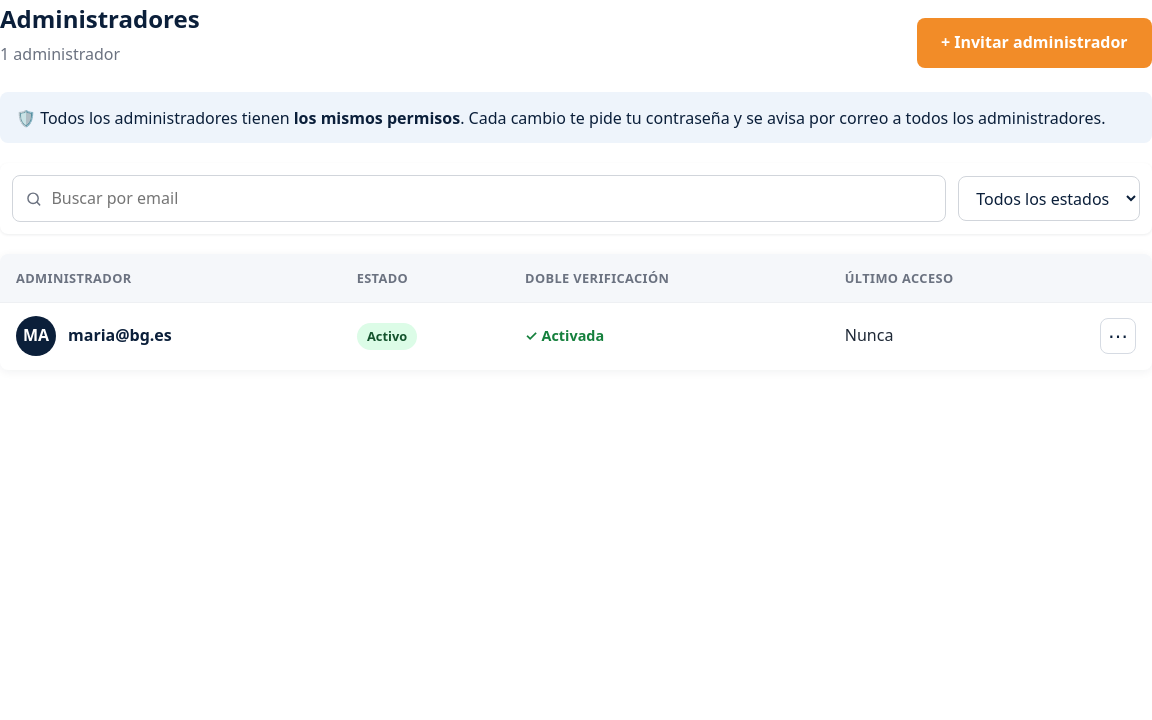
admin screens › Administradores: lists the admins and invites a new one
Expected: the heading "Administradores" is shown, x1=0 y1=0 x2=200 y2=38
Click the button "+ Invitar administrador": (1034,43) x1=917 y1=18 x2=1151 y2=68
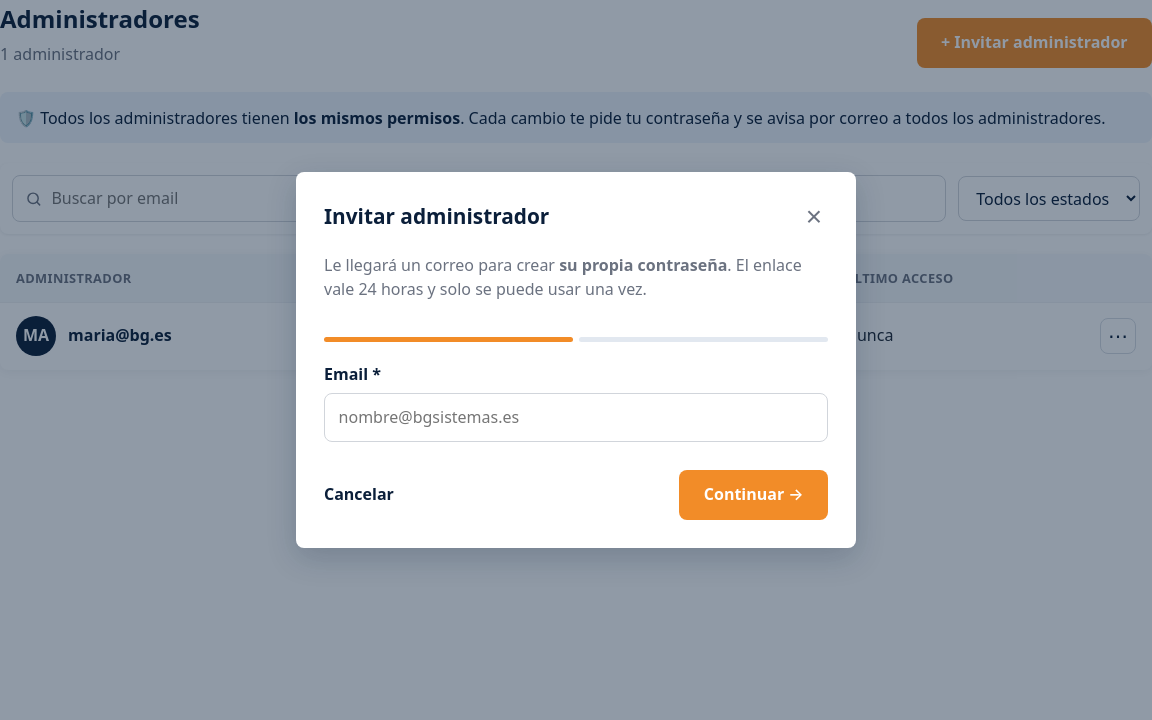
In the field with id "invite-email": (576,418) x1=324 y1=393 x2=828 y2=442, type "Nuevo@bg.es"
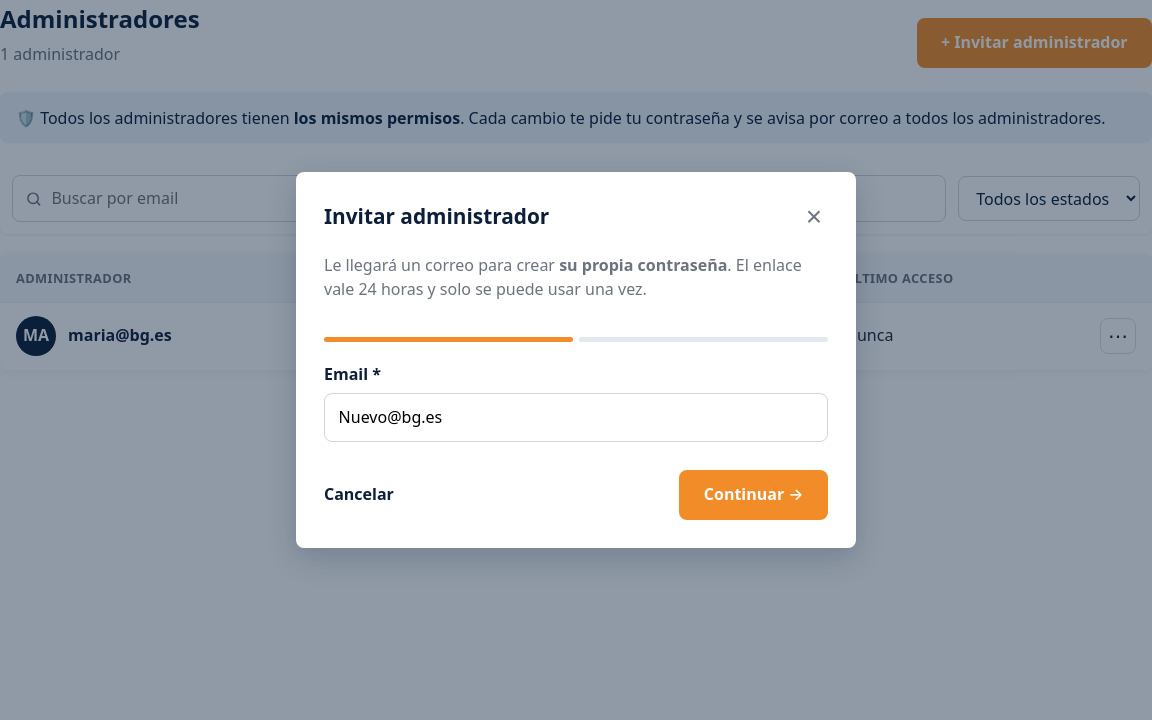
Submit the form, box x1=324 y1=253 x2=828 y2=520
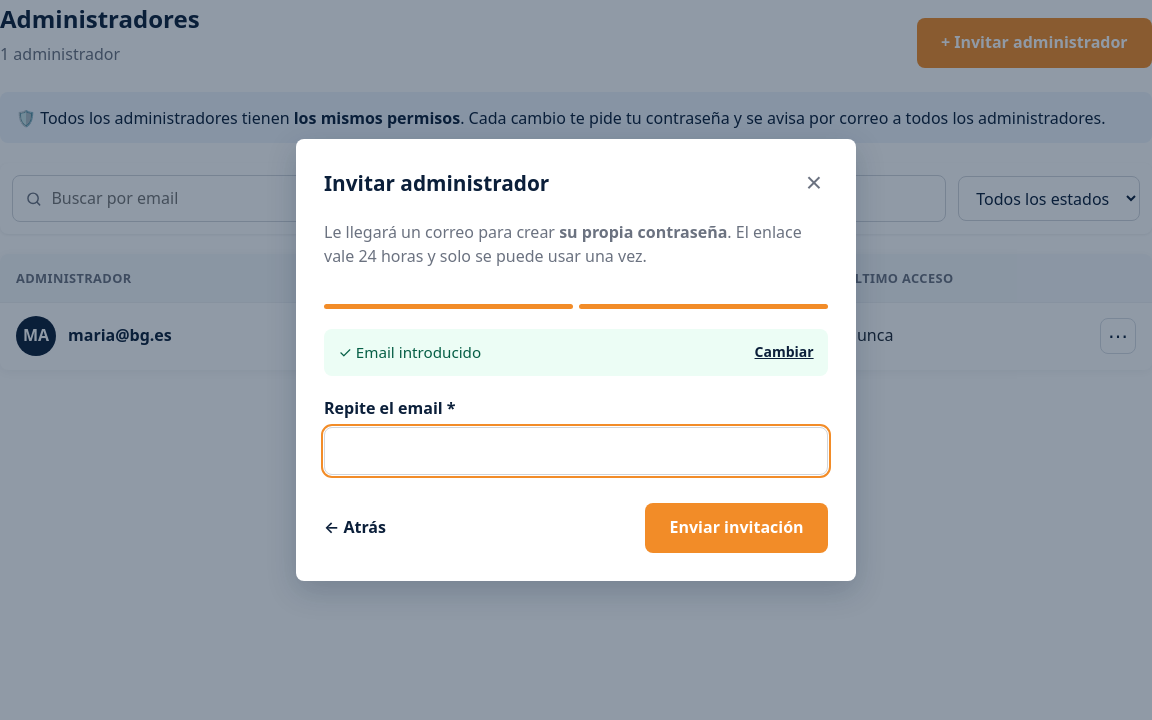
In the field with id "invite-confirm-email": (576,451) x1=324 y1=427 x2=828 y2=475, type "nuevo@bg.es"
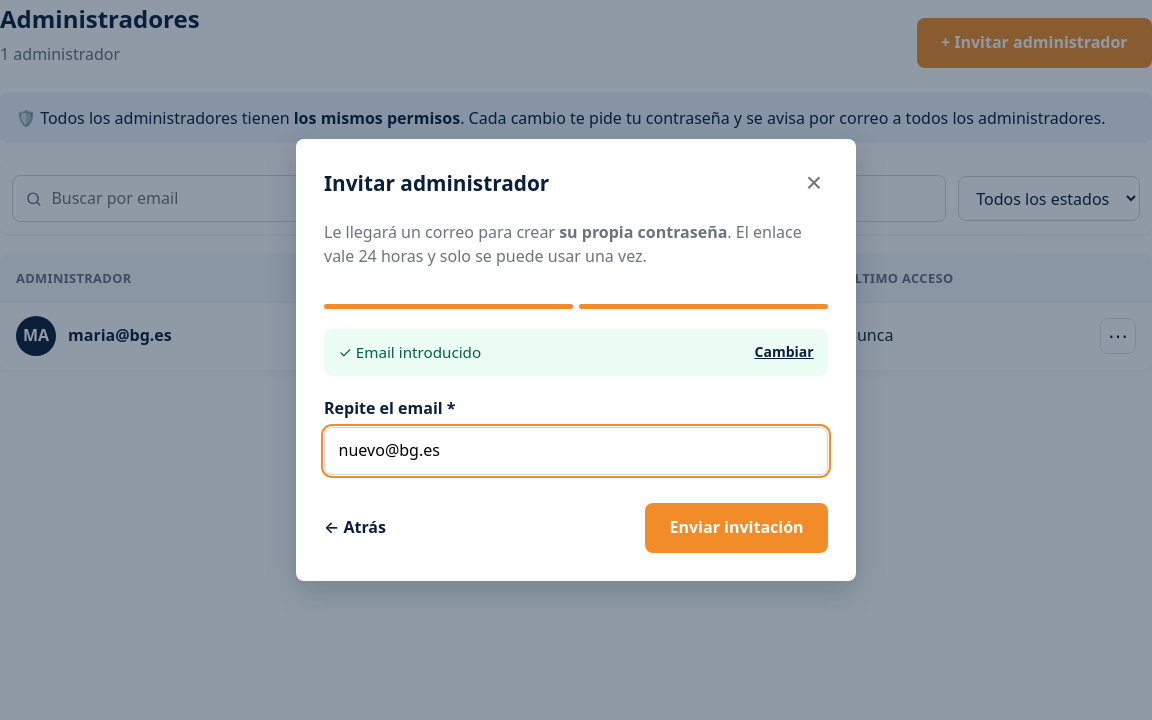
Submit the form, box x1=324 y1=220 x2=828 y2=553
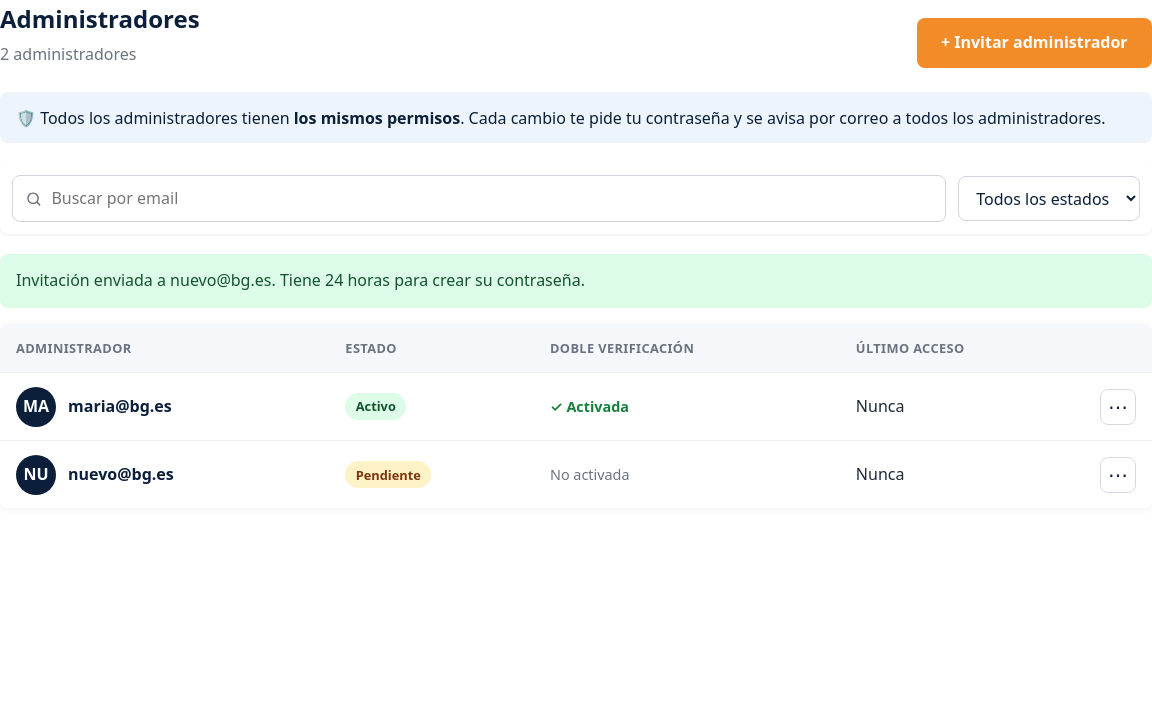
Now the message "Invitación enviada a nuevo@bg.es. Tiene 24 horas para crear su contraseña." is shown, box x1=0 y1=254 x2=1151 y2=308
Now the row with test id "admin-3" shows "Pendiente", box x1=356 y1=466 x2=421 y2=484
